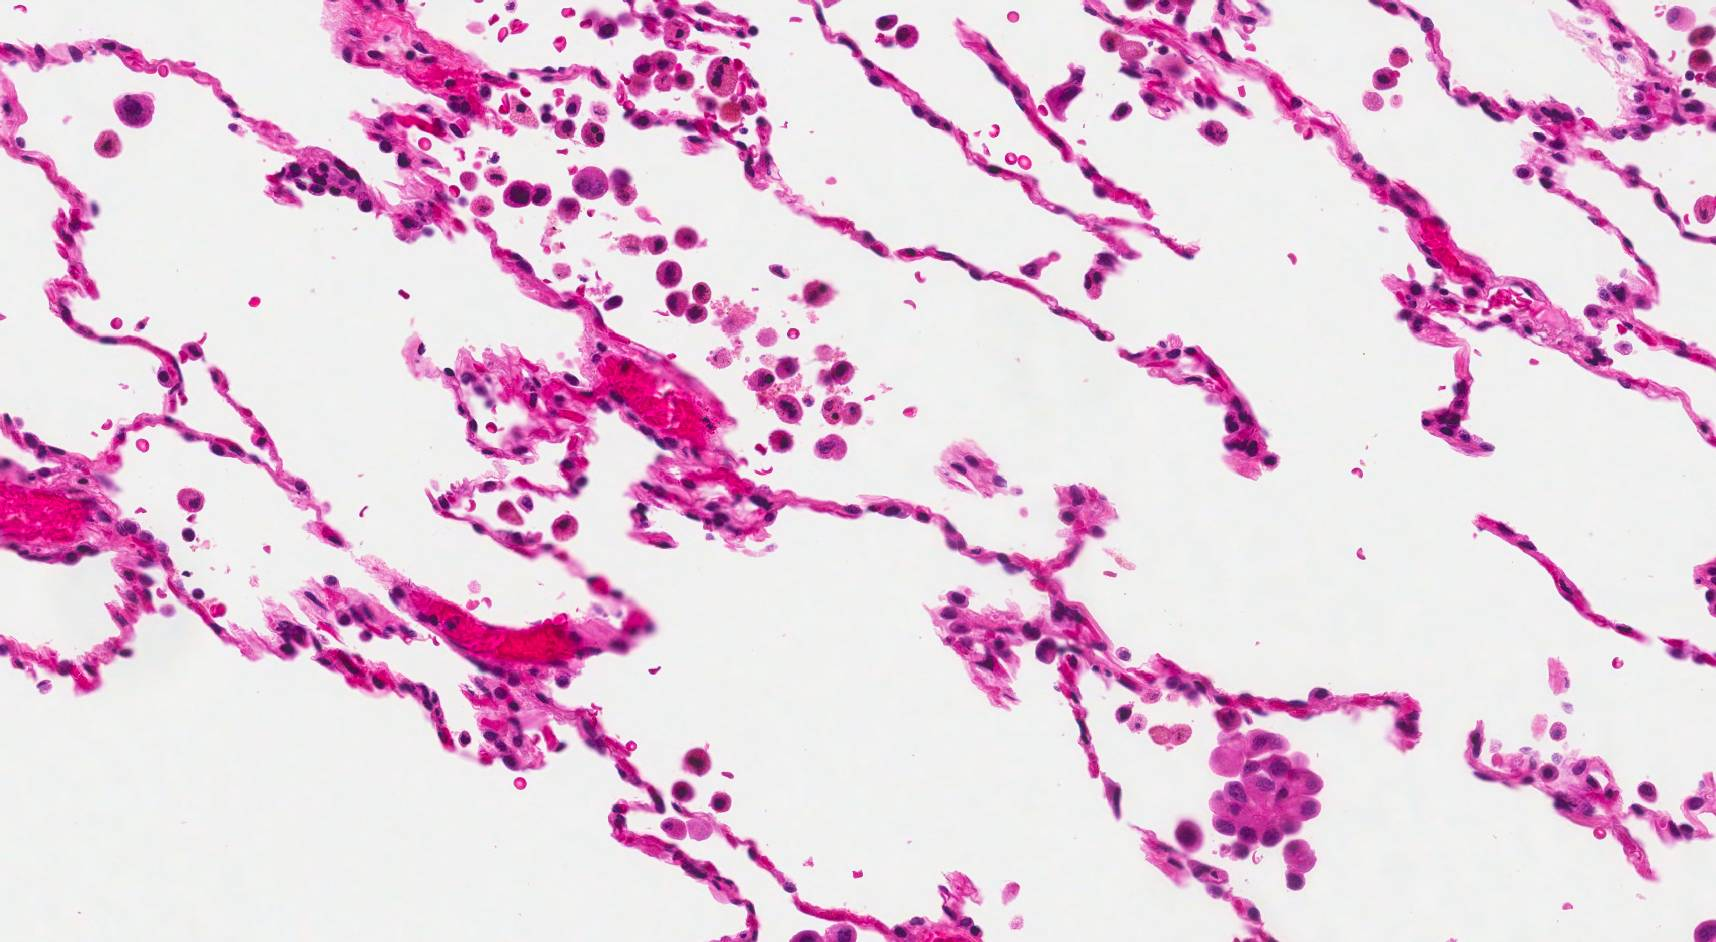stas: (1207, 756, 1322, 858)
